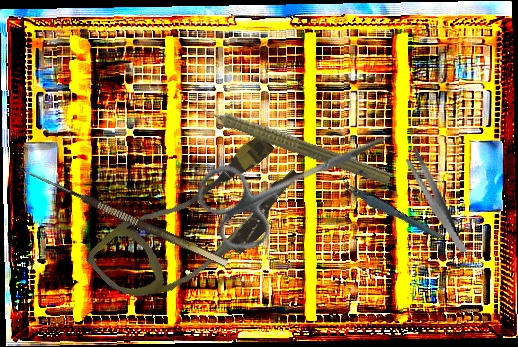Cannula: (83, 113, 312, 334)
Dressing Forceps: (403, 141, 468, 260)
Handpiece: (187, 92, 396, 190)
Hook Surgical: (10, 162, 229, 279)
Iris Scissors: (188, 92, 410, 262)
Tissue Forceps: (339, 168, 443, 251)
